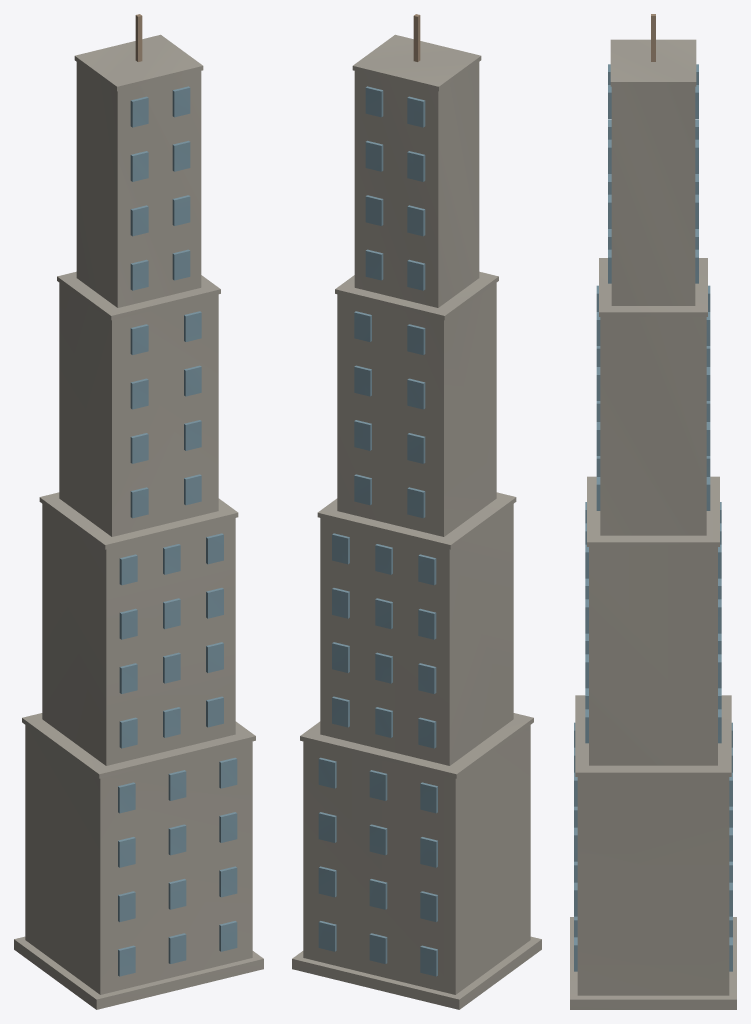
Rendered from tower-05.glb.
3 views of the same model, side by side, from view 1: azimuth 30°, elevation 25°; view 2: azimuth 150°, elevation 25°; view 3: azimuth 270°, elevation 25° (orthographic).
Parts seen in each view (by area): view 1: world; view 2: world; view 3: world.
Boxes of the visible parts, box(x1,y1,x2,y2) form: world: box(14, 14, 263, 1009); world: box(292, 14, 541, 1009); world: box(570, 14, 736, 1009).
Bounding box in the file's own units: 1.35 × 7.29 × 1.15.
